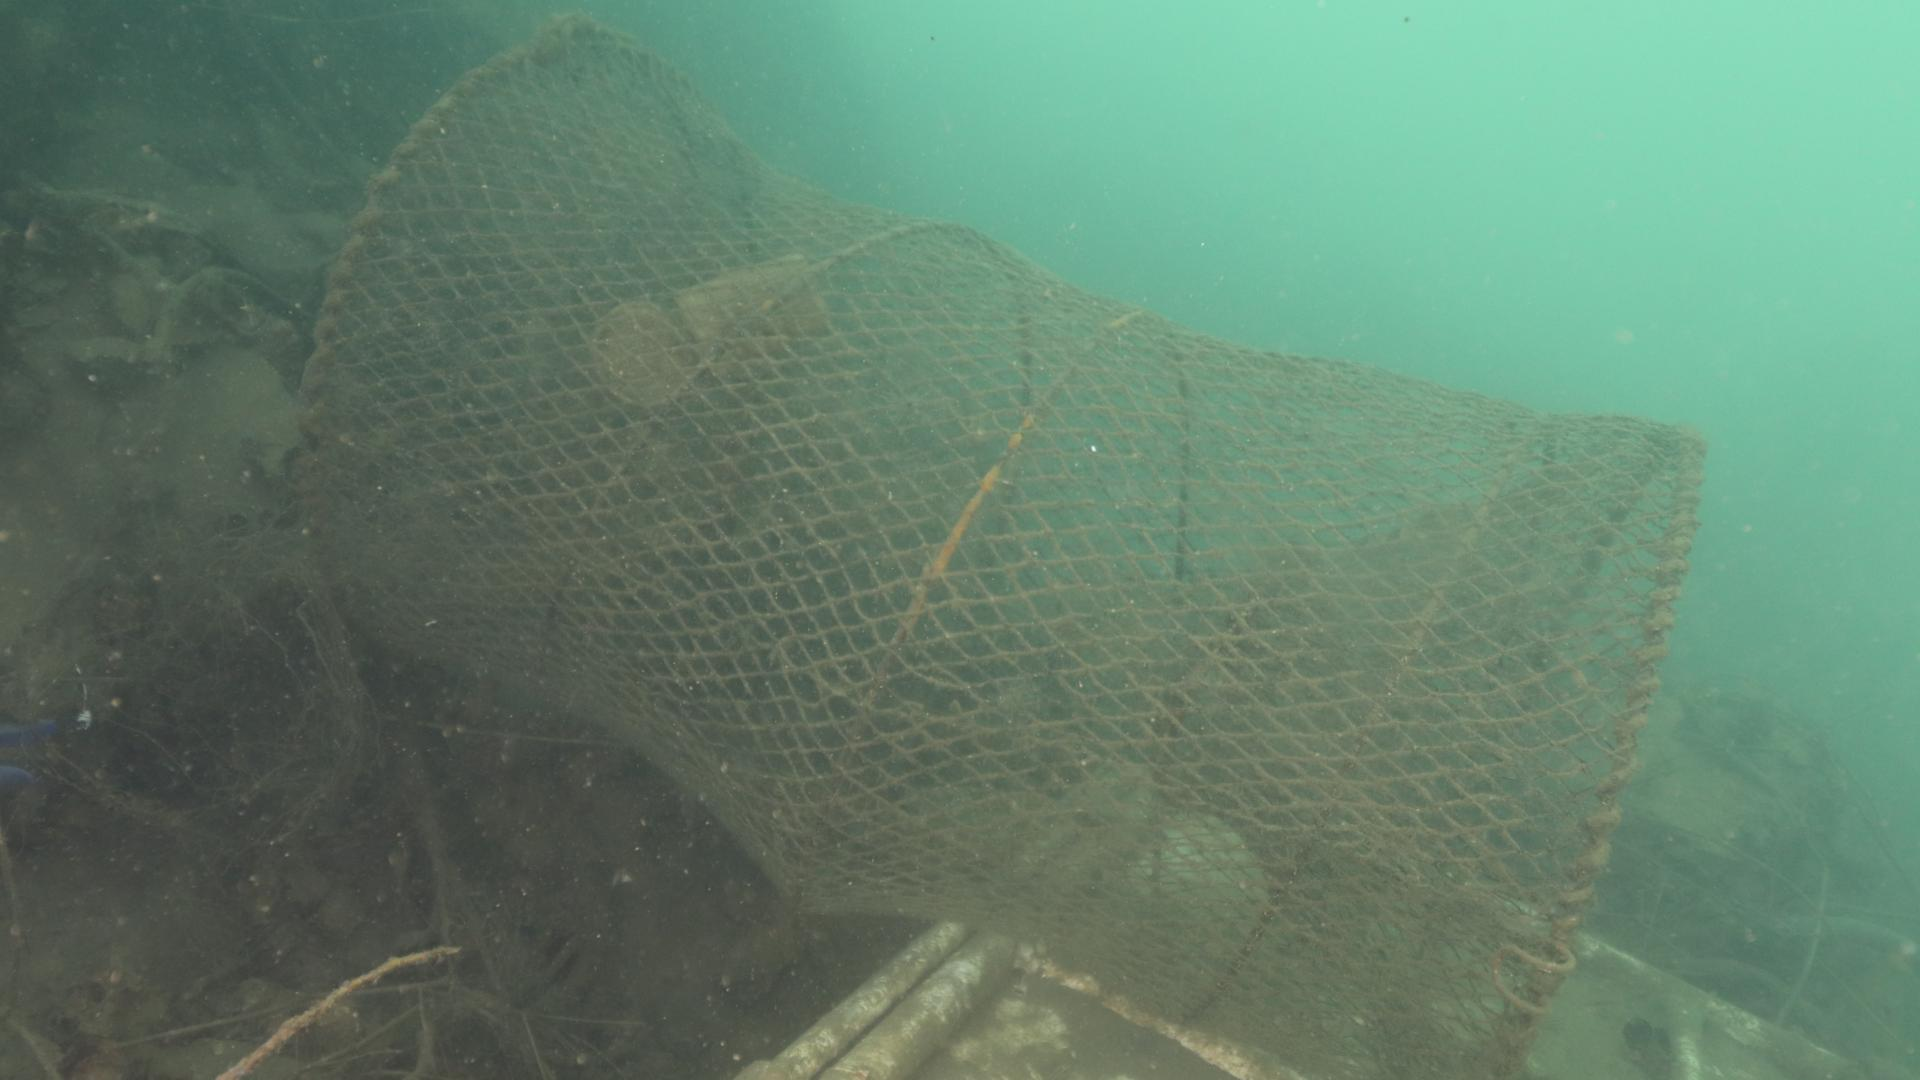spring fish trap: (297, 15, 1708, 1080)
